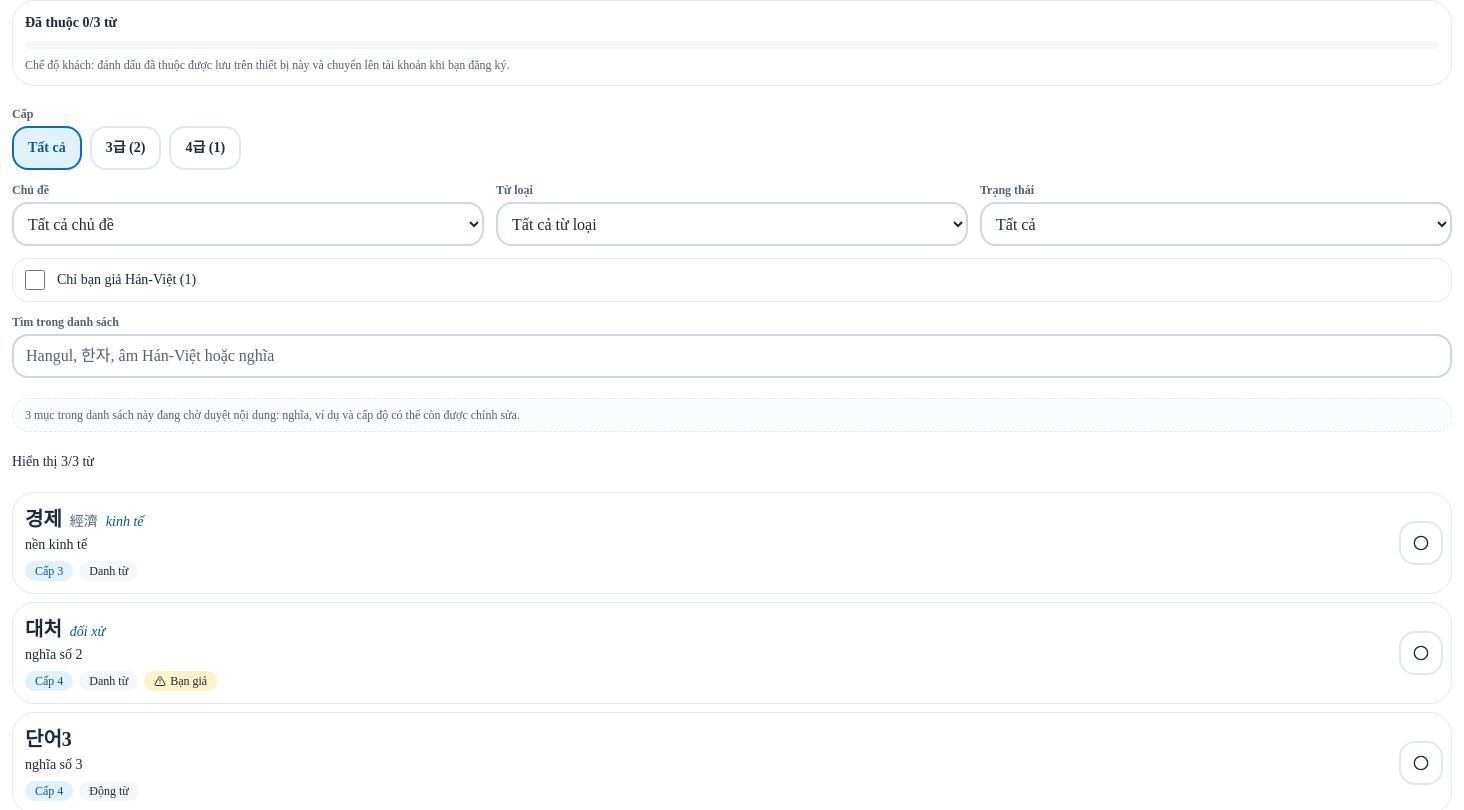
VocabBrowser › tìm chữ không phân biệt dấu
This screenshot has width=1464, height=810.
Type "kinh te" into the search field labelled "Tìm trong danh sách" at (732, 356), box [12,334,1452,378]
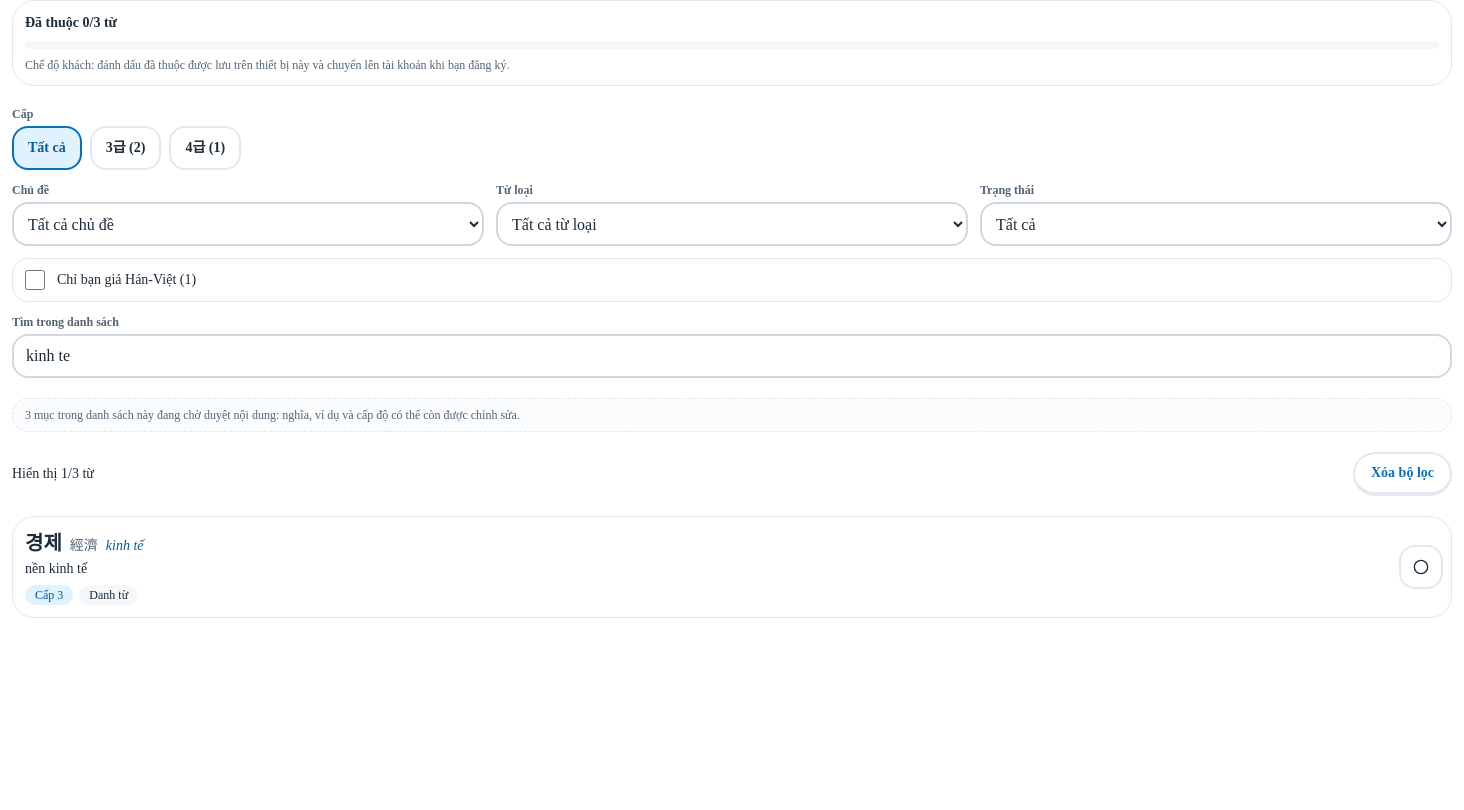
Result: the text "Hiển thị 1/3 từ" is shown at [12,464,94,484]
Replace the text in the search field labelled "Tìm trong danh sách" with "zzz" at (732, 356), box [12,334,1452,378]
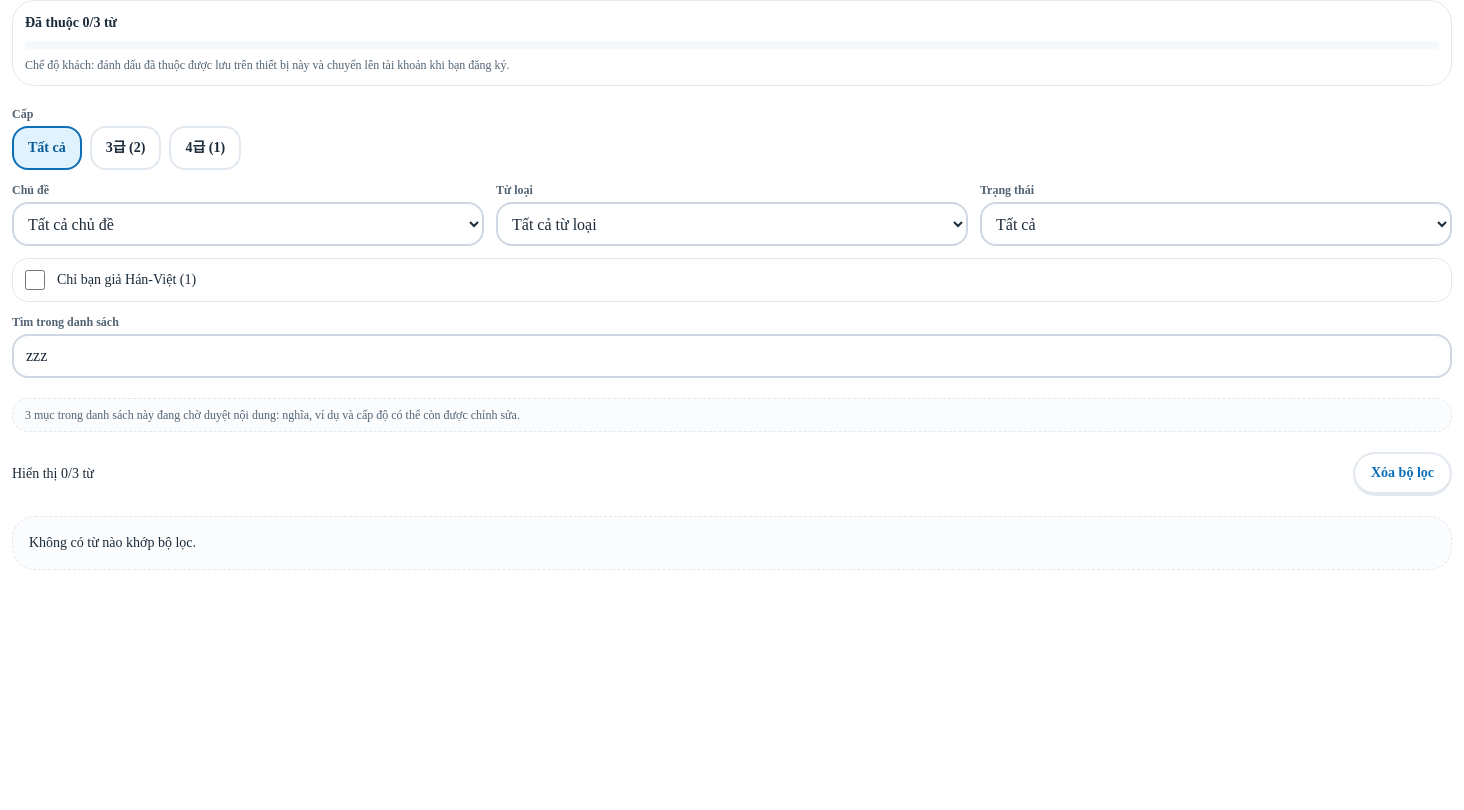
Result: the text "Không có từ nào khớp bộ lọc." is shown at [12,516,1452,570]
